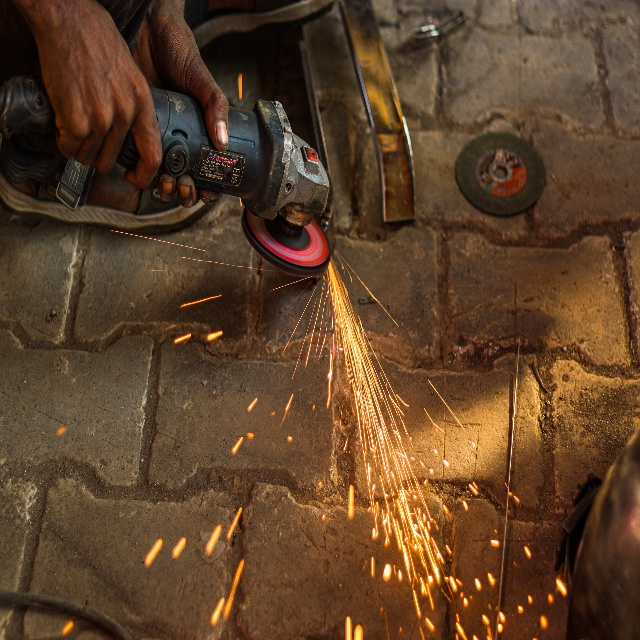Sin_guantes: (31, 0, 164, 191), (133, 0, 231, 210)
